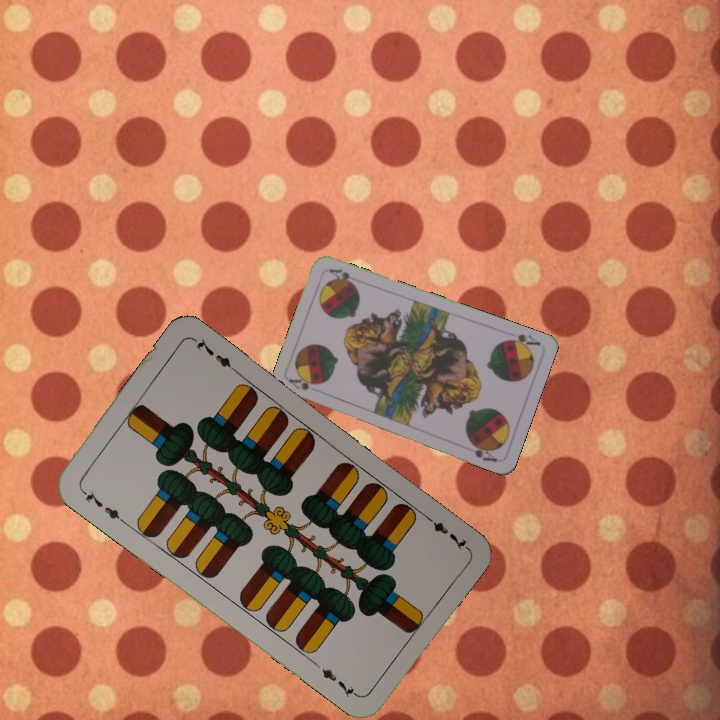E7: (419, 510, 470, 553), (76, 485, 127, 526)
SA: (501, 330, 543, 352), (285, 375, 312, 393)
